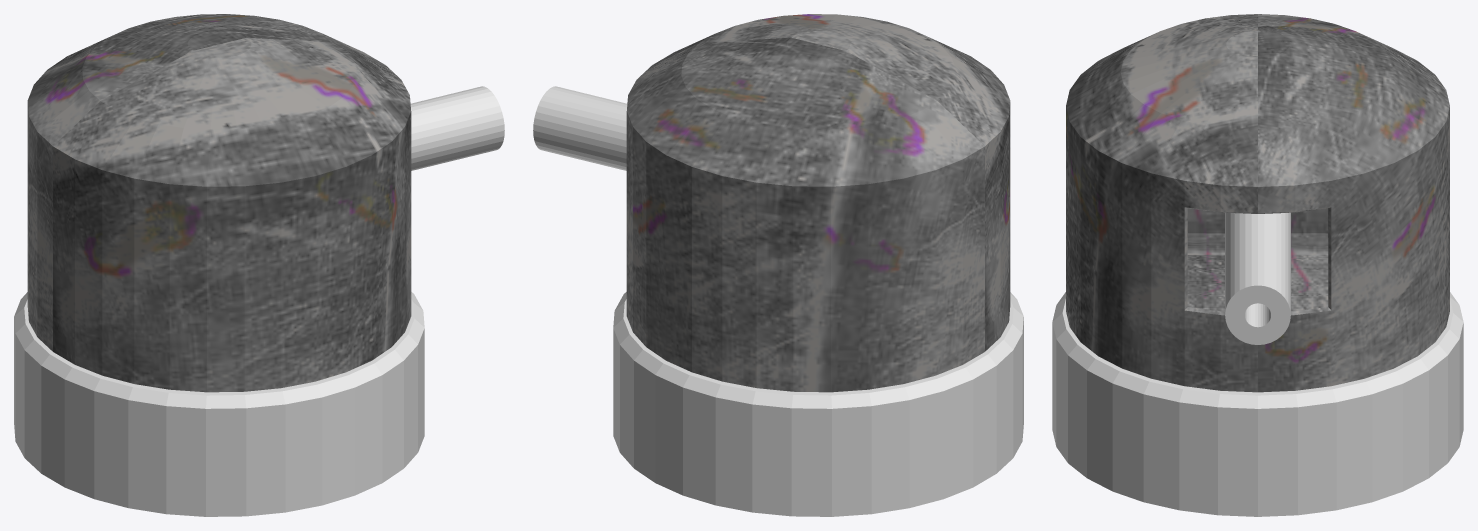
The model's file is tourel.dae.
3 renders of one model, left to right at view 1: azimuth 30°, elevation 25°; view 2: azimuth 150°, elevation 25°; view 3: azimuth 270°, elevation 25°, orthographic.
Parts seen in each view (by area): view 1: Tower, Base, Gun; view 2: Tower, Base, Gun; view 3: Tower, Base, Gun.
Boxes of the visible parts, box(x1,y1,x2,y2) form: Tower: box(27, 14, 411, 392); Base: box(14, 292, 424, 516); Gun: box(410, 86, 504, 170); Tower: box(626, 14, 1010, 392); Base: box(613, 292, 1023, 516); Gun: box(533, 86, 627, 170); Tower: box(1066, 14, 1449, 392); Base: box(1052, 292, 1463, 516); Gun: box(1225, 212, 1290, 344).
Size of the model in its own units: 2.51 by 2 by 2.07.
2 materials, 1 textured.
